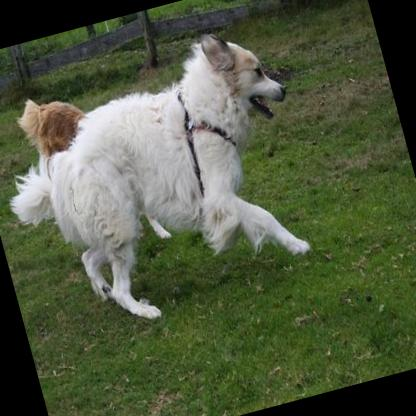Great_Pyrenees: (0, 15, 333, 346)
